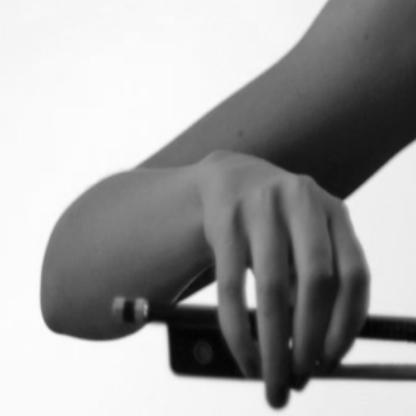good: (190, 161, 374, 410)
